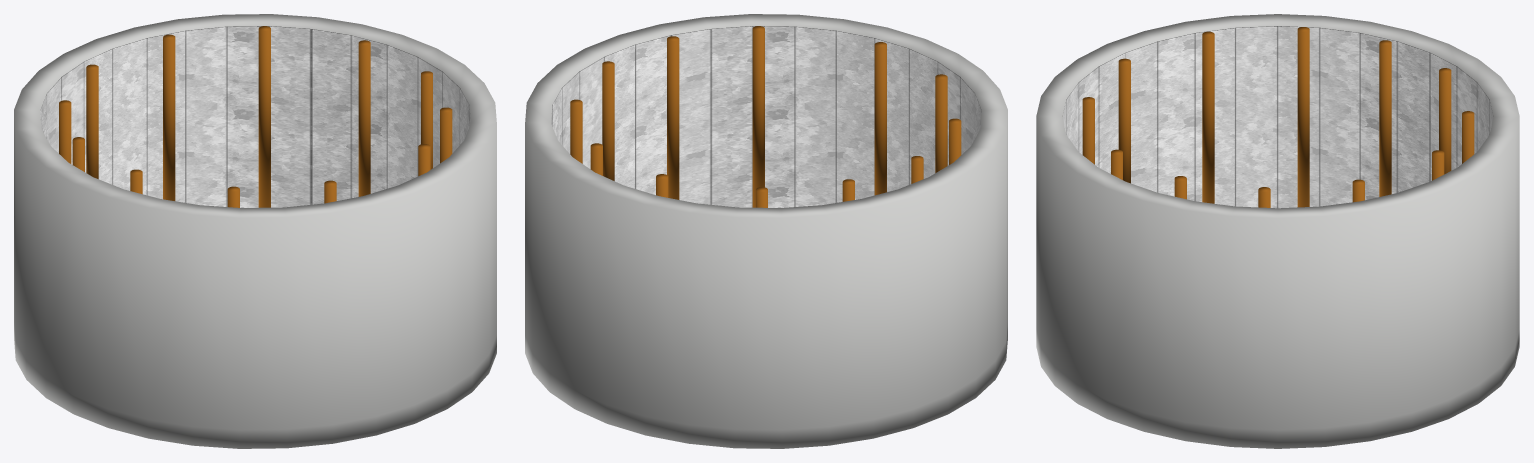
3 renders of one model, left to right at view 1: azimuth 30°, elevation 25°; view 2: azimuth 150°, elevation 25°; view 3: azimuth 270°, elevation 25°, orthographic.
Parts seen in each view (by area): view 1: Cylinder, Cylinder.006_Cylinder.007, Cylinder.001_Cylinder.008, Cylinder.005_Cylinder.006, Cylinder.002_Cylinder.003, Cylinder.003_Cylinder.004, Cylinder.004_Cylinder.005; view 2: Cylinder, Cylinder.002_Cylinder.003, Cylinder.003_Cylinder.004, Cylinder.001_Cylinder.008, Cylinder.004_Cylinder.005, Cylinder.006_Cylinder.007, Cylinder.005_Cylinder.006; view 3: Cylinder, Cylinder.004_Cylinder.005, Cylinder.005_Cylinder.006, Cylinder.003_Cylinder.004, Cylinder.006_Cylinder.007, Cylinder.002_Cylinder.003, Cylinder.001_Cylinder.008.
Boxes of the visible parts, bbox=[...] form: Cylinder: bbox=[14, 14, 496, 448]; Cylinder.006_Cylinder.007: bbox=[227, 26, 270, 207]; Cylinder.001_Cylinder.008: bbox=[163, 34, 336, 203]; Cylinder.005_Cylinder.006: bbox=[130, 40, 370, 196]; Cylinder.002_Cylinder.003: bbox=[86, 64, 430, 178]; Cylinder.003_Cylinder.004: bbox=[59, 100, 452, 163]; Cylinder.004_Cylinder.005: bbox=[72, 71, 432, 171]; Cylinder: bbox=[525, 14, 1007, 448]; Cylinder.002_Cylinder.003: bbox=[752, 26, 767, 207]; Cylinder.003_Cylinder.004: bbox=[667, 36, 854, 201]; Cylinder.001_Cylinder.008: bbox=[656, 42, 886, 197]; Cylinder.004_Cylinder.005: bbox=[602, 61, 923, 183]; Cylinder.006_Cylinder.007: bbox=[590, 74, 947, 175]; Cylinder.005_Cylinder.006: bbox=[570, 99, 961, 164]; Cylinder: bbox=[1036, 14, 1519, 448]; Cylinder.004_Cylinder.005: bbox=[1258, 27, 1309, 207]; Cylinder.005_Cylinder.006: bbox=[1202, 31, 1364, 203]; Cylinder.003_Cylinder.004: bbox=[1174, 40, 1391, 199]; Cylinder.006_Cylinder.007: bbox=[1118, 58, 1444, 183]; Cylinder.002_Cylinder.003: bbox=[1111, 68, 1451, 179]; Cylinder.001_Cylinder.008: bbox=[1082, 97, 1474, 164].
Bounding box in the file's own units: 78.66 × 42.67 × 78.66.
Materials: 7 (1 with a texture image).
